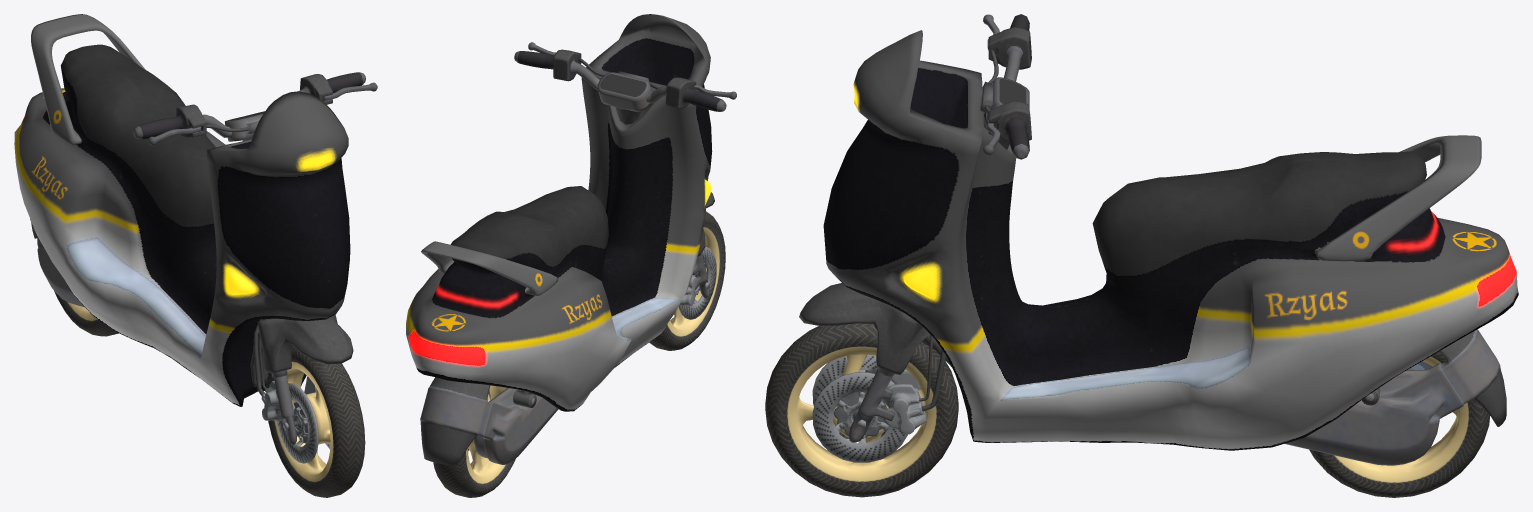
The model's file is scooter_electric.glb.
3 views of the same model, side by side, from view 1: azimuth 30°, elevation 25°; view 2: azimuth 150°, elevation 25°; view 3: azimuth 270°, elevation 25° (orthographic). The views are drawn at different scales.
Visible parts, largest first — view 1: electric scooter_0; view 2: electric scooter_0; view 3: electric scooter_0.
Boxes of the visible parts, bbox=[...] form: electric scooter_0: bbox=[14, 14, 377, 497]; electric scooter_0: bbox=[406, 14, 736, 497]; electric scooter_0: bbox=[765, 14, 1518, 497].
Size of the model in its own units: 0.9632 by 1.53 by 2.27.
Materials: 4 (4 with a texture image).
